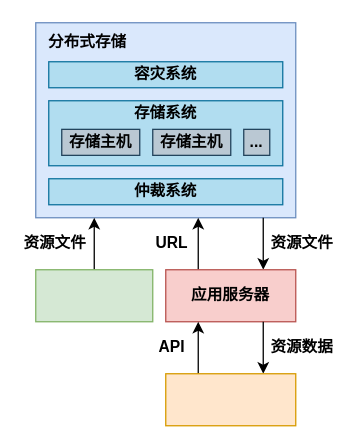
Some shapes in this 356 by 448 pixel diagram are drawn without their labels. Each missing label, with the centre of its shape:
业务客户机: pixel 230 399
管理客户机: pixel 93 295
